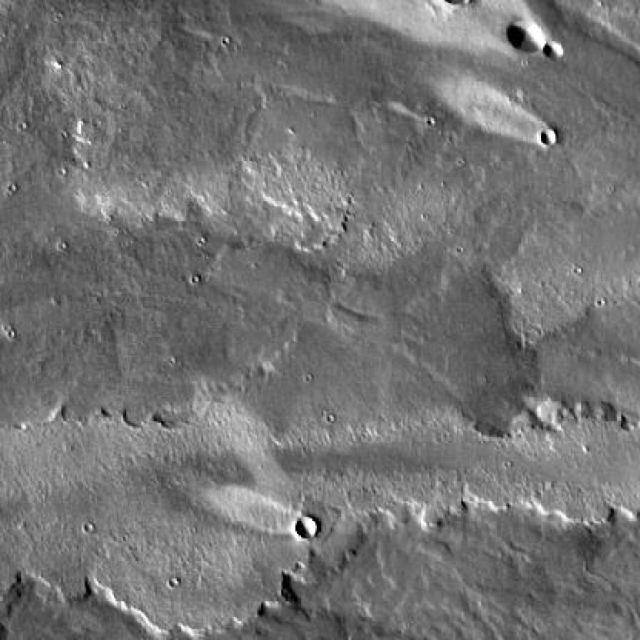crater: (302, 519, 322, 539), (539, 137, 556, 152)
